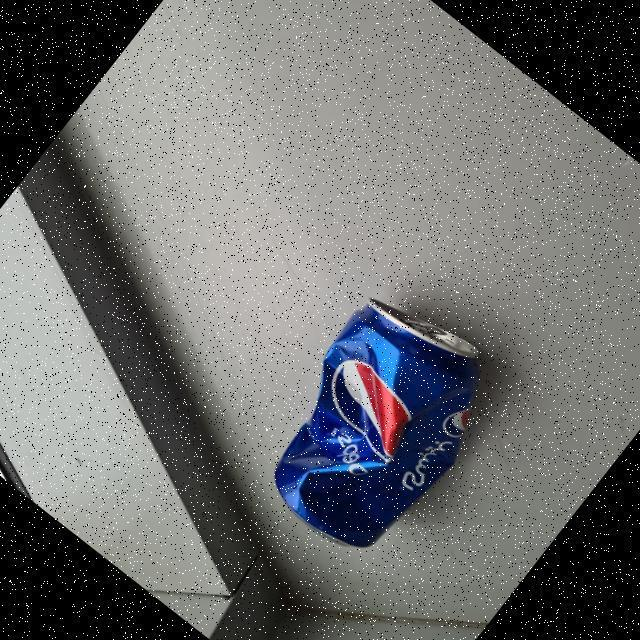can: (218, 260, 527, 582)
